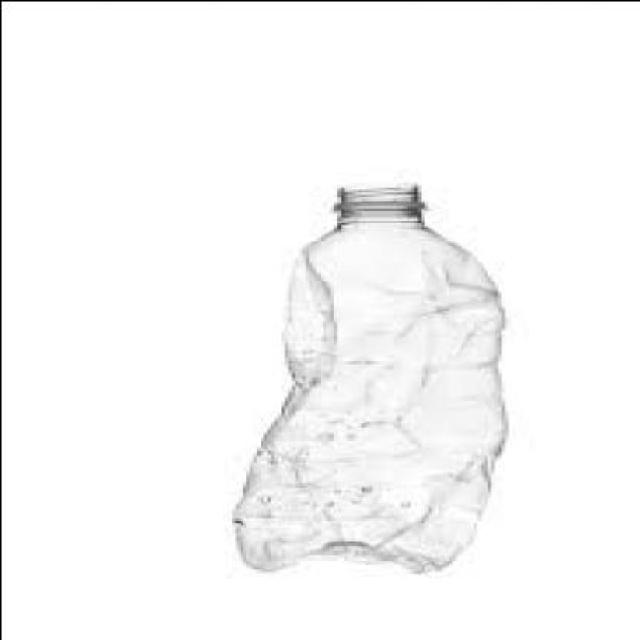PLASTIC: (227, 182, 501, 570)
